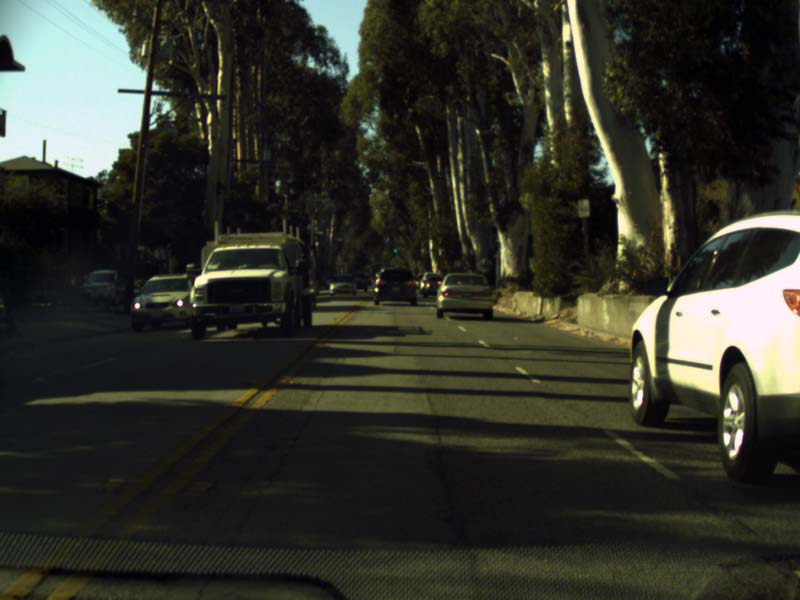Green: (391, 245, 397, 256)
